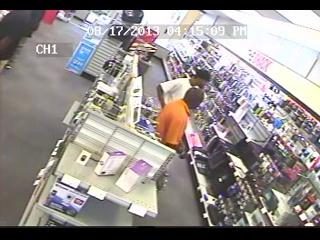Normal: (155, 87, 205, 154), (0, 10, 46, 62), (156, 68, 210, 109)
